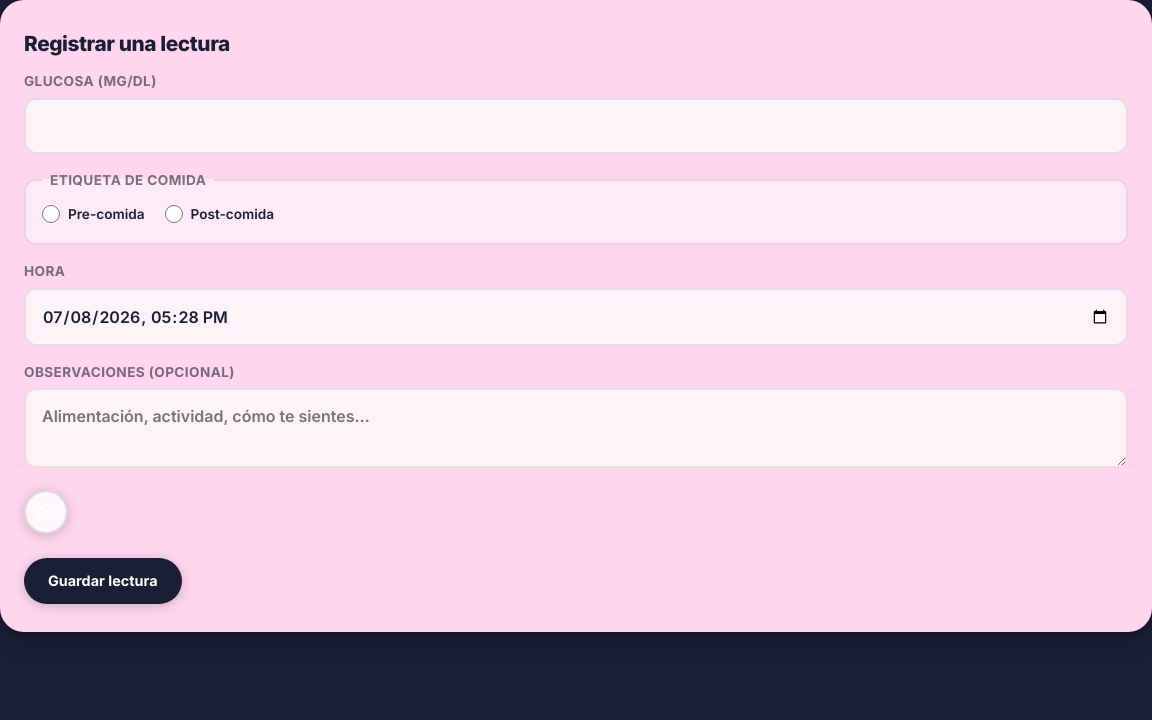
Scenario: QuickRecord validation and persist-failure notice › shows a not-saved notice and preserves input when persistence fails (Req 5.6)
Type "120" into the number field labelled "Glucosa (mg/dL)".
click(576, 126); type("120")  # box [24,98,1128,154]
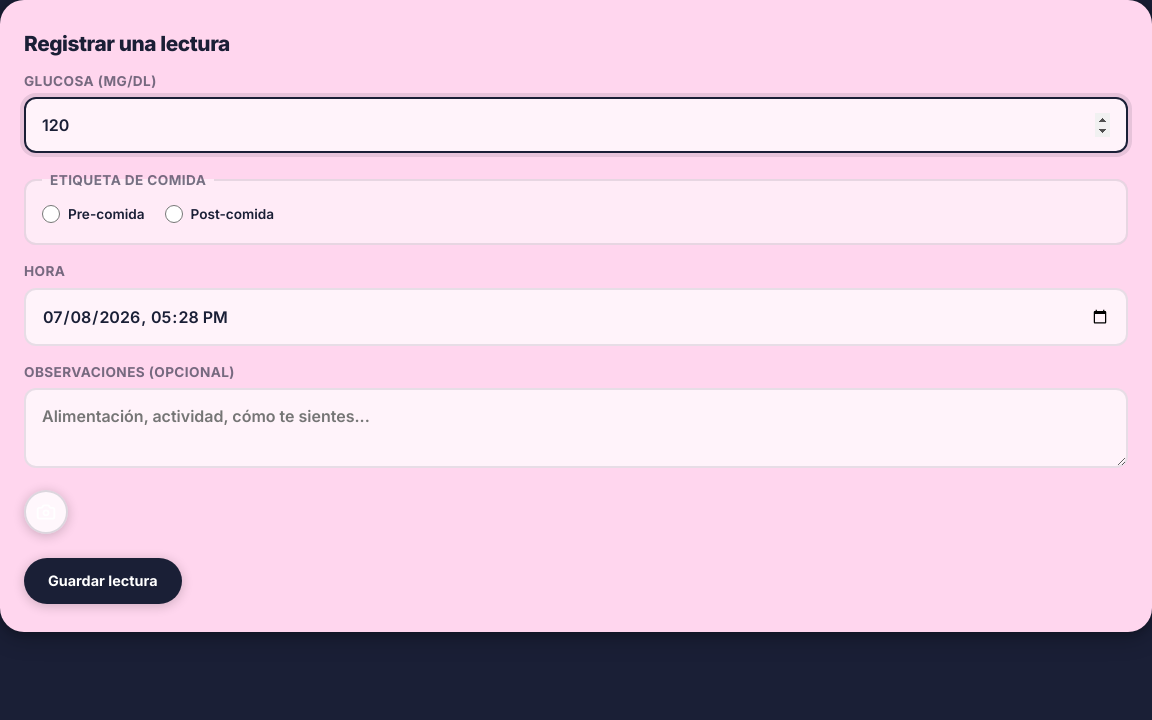
Click the radio button labelled "Post-comida".
click(174, 214)  # box [164,205,182,223]
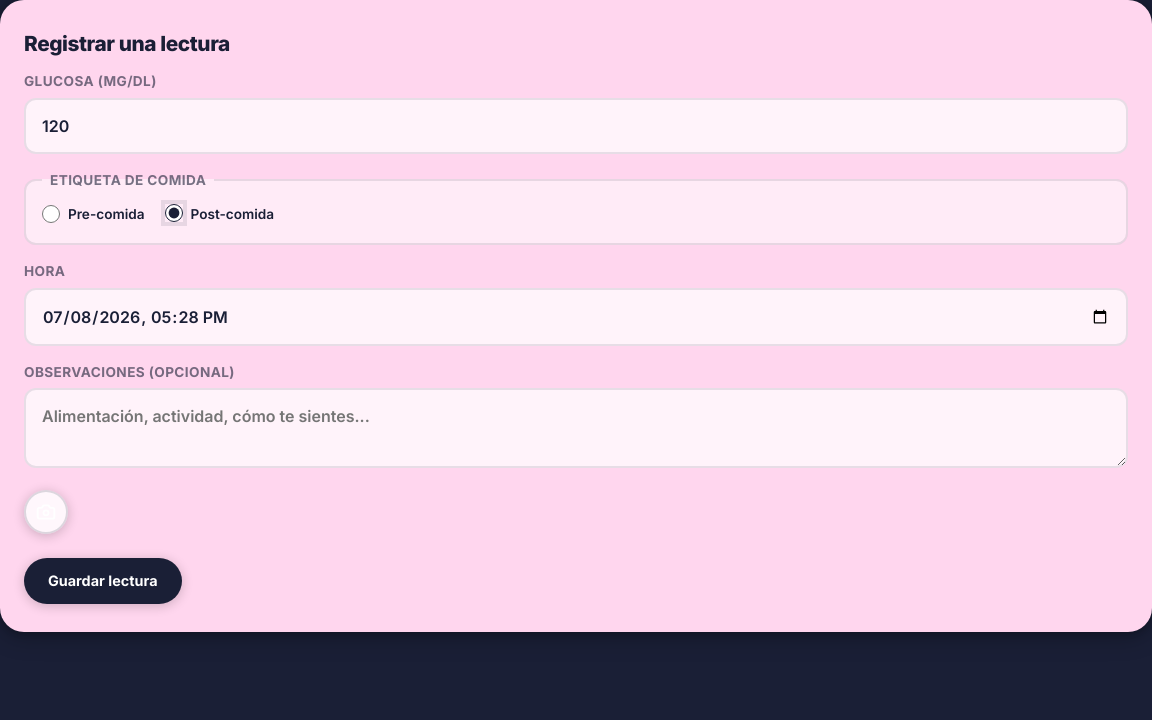
Click the button "Guardar lectura".
click(103, 581)  # box [24,558,182,604]
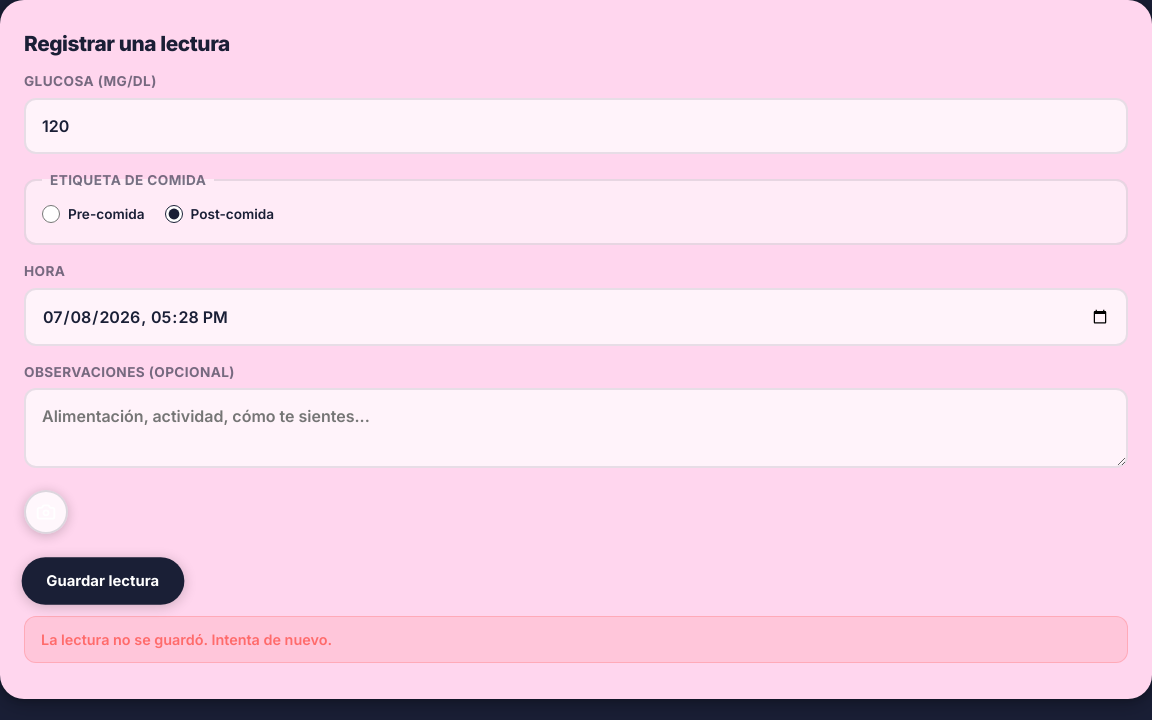
Now the message shows "no se guardó", box [41,630,332,648]
